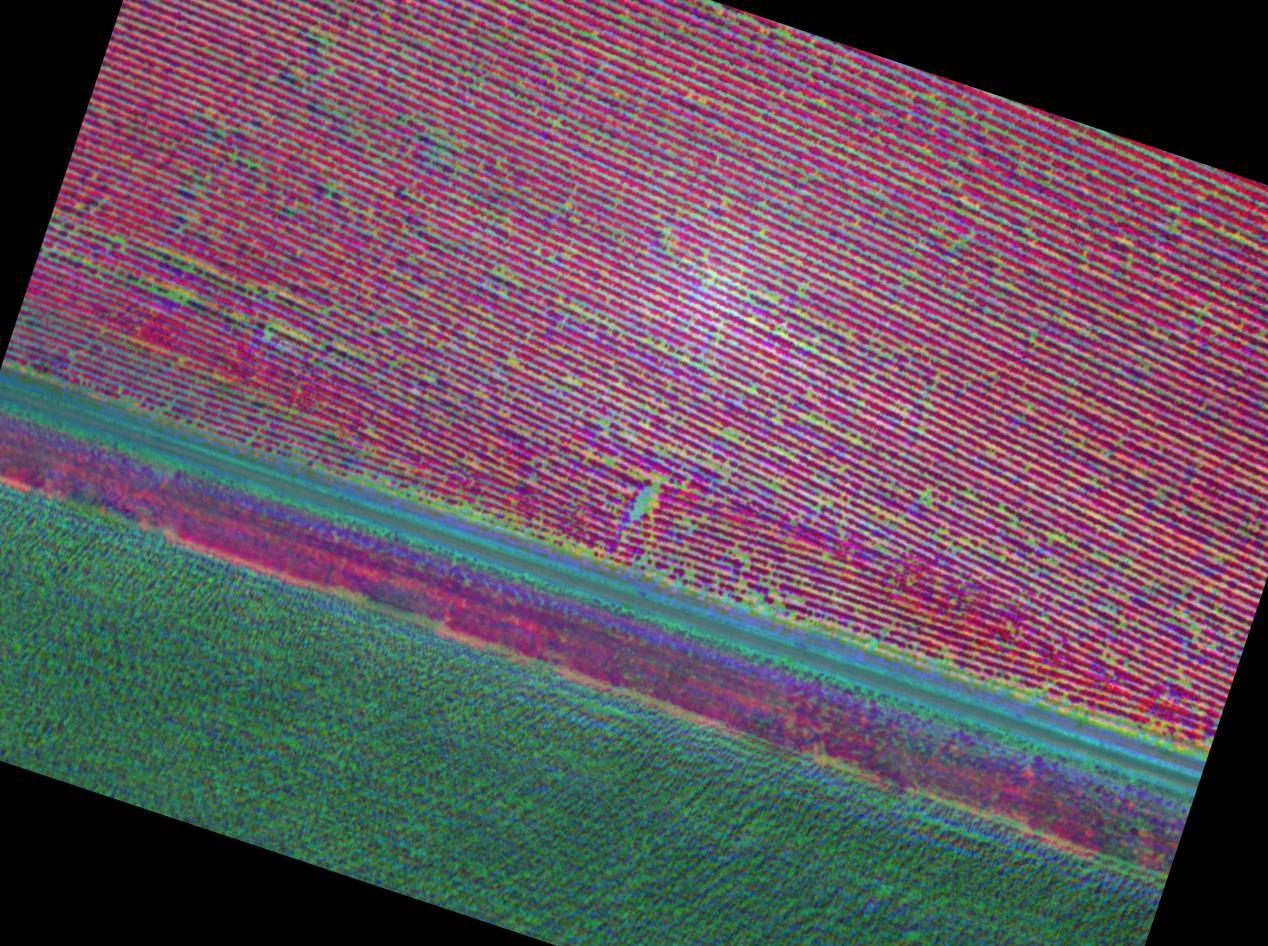dc: (769, 299, 775, 304), (774, 419, 779, 424), (801, 284, 805, 289), (750, 388, 754, 393), (706, 463, 711, 467), (1050, 535, 1054, 540), (722, 433, 726, 437), (650, 489, 653, 494), (635, 503, 640, 506), (758, 234, 762, 237), (684, 519, 687, 523)
